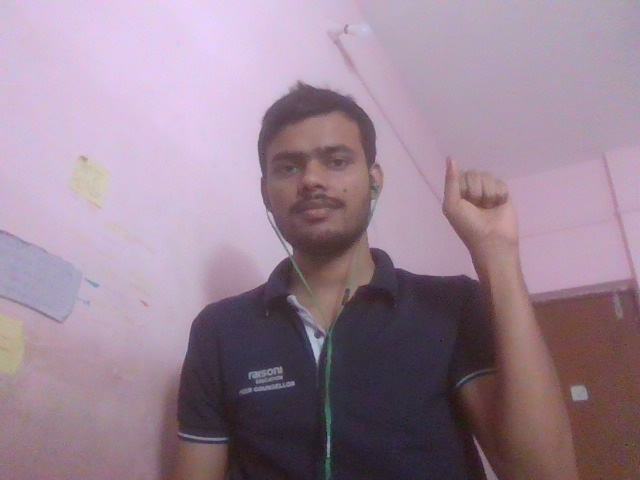Yes: (396, 112, 614, 355)
